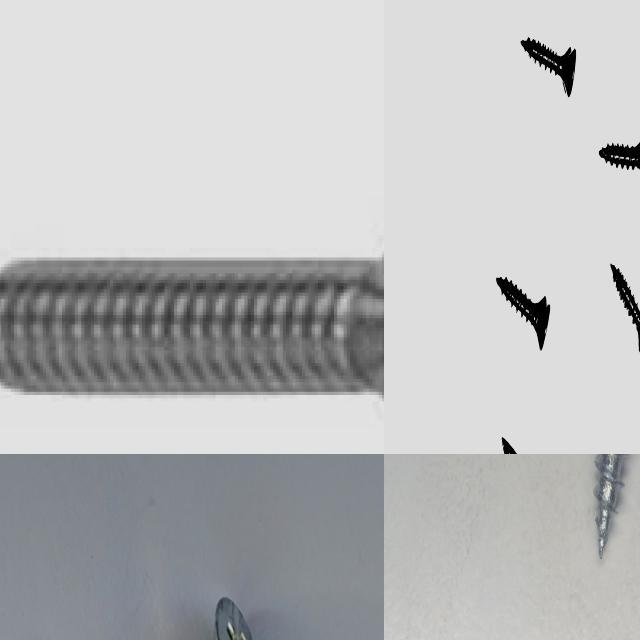Screw: (0, 248, 384, 404), (497, 276, 550, 348), (521, 35, 576, 94), (595, 454, 624, 555), (611, 263, 640, 349), (600, 140, 640, 168)
